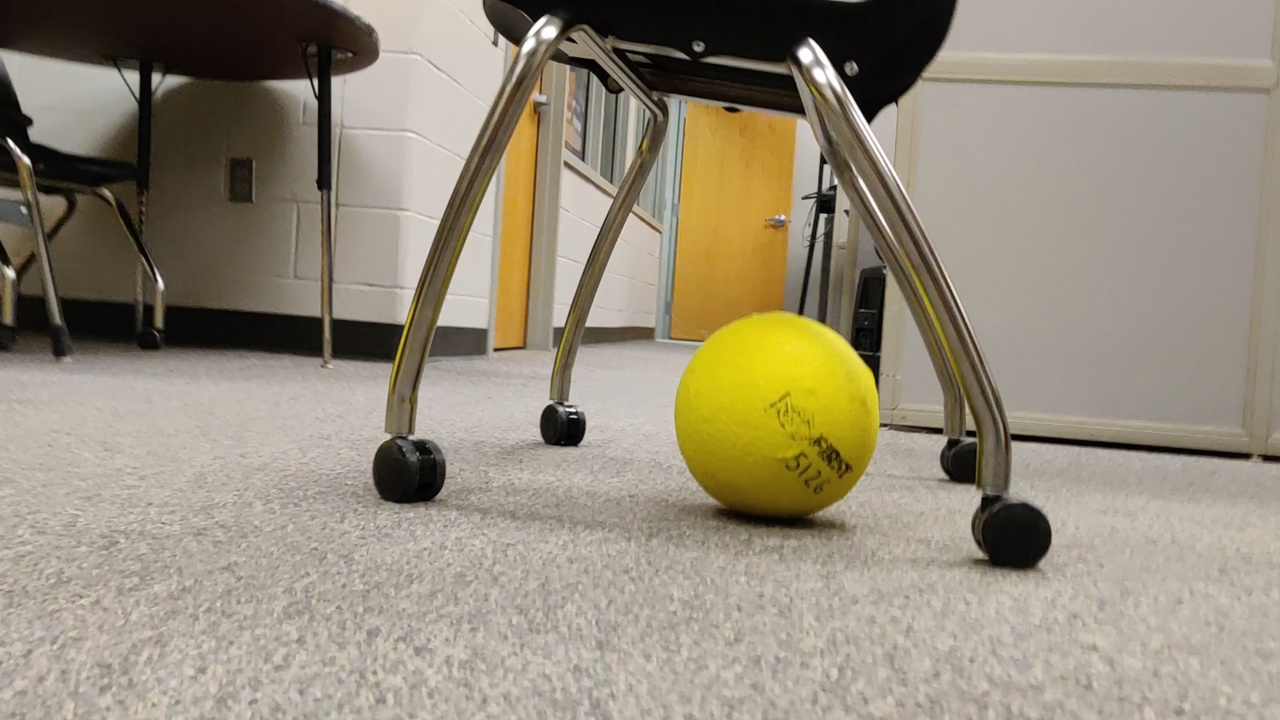Ball: (682, 310, 878, 524)
